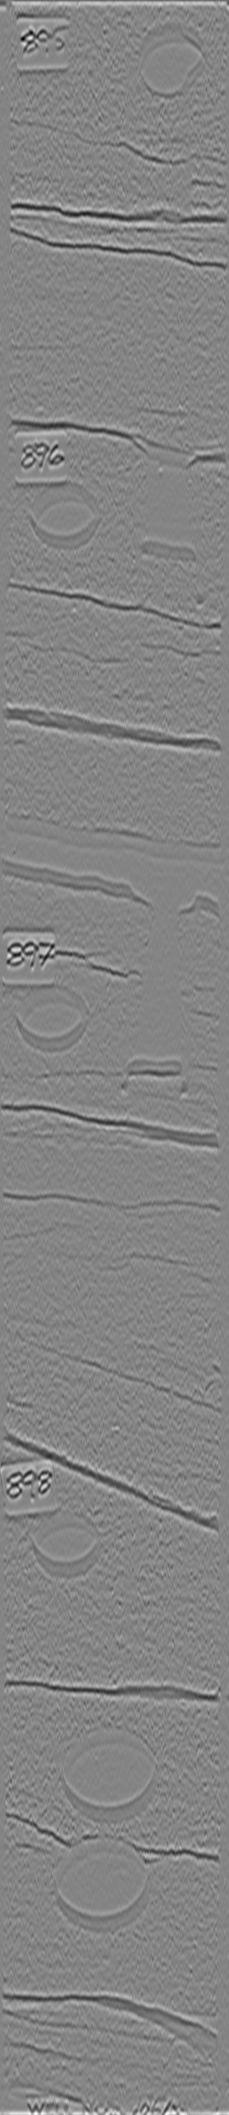hplug: (24, 1503, 113, 1584), (22, 473, 110, 552), (8, 978, 96, 1056), (132, 18, 211, 90)
scal: (48, 1832, 158, 1940), (57, 1721, 167, 1826)
vplug: (113, 898, 206, 1098), (115, 1486, 195, 1693), (123, 430, 211, 611), (117, 90, 203, 219)
